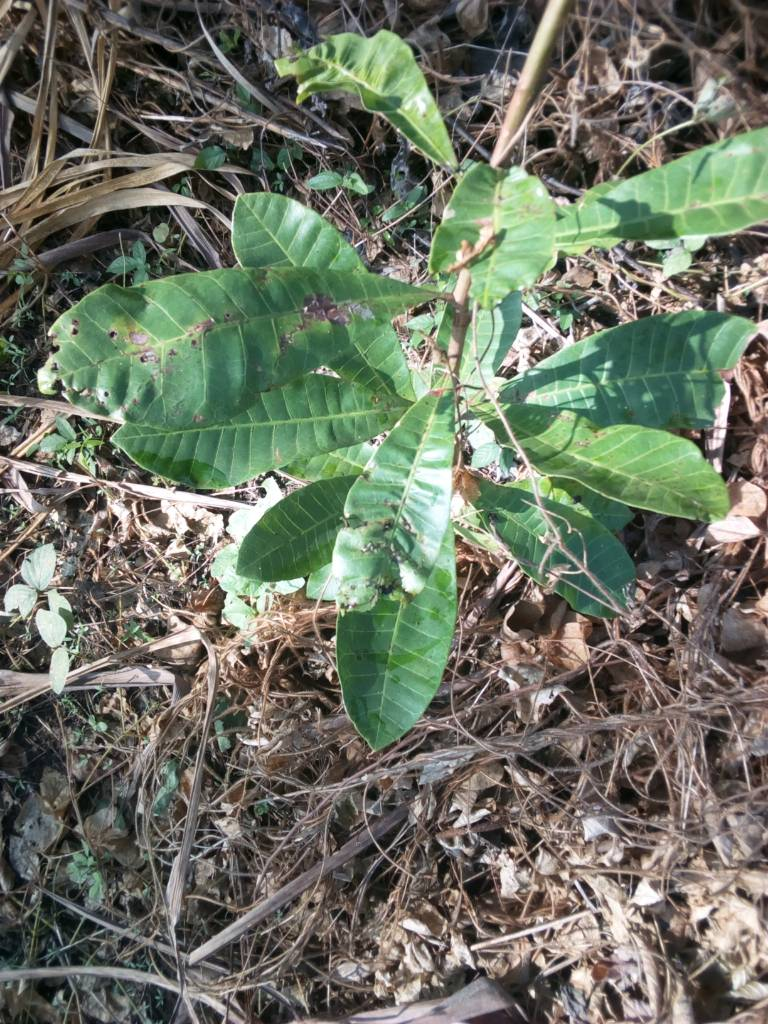Anoplonemis curvipes: (54, 278, 404, 403), (329, 425, 450, 611)
